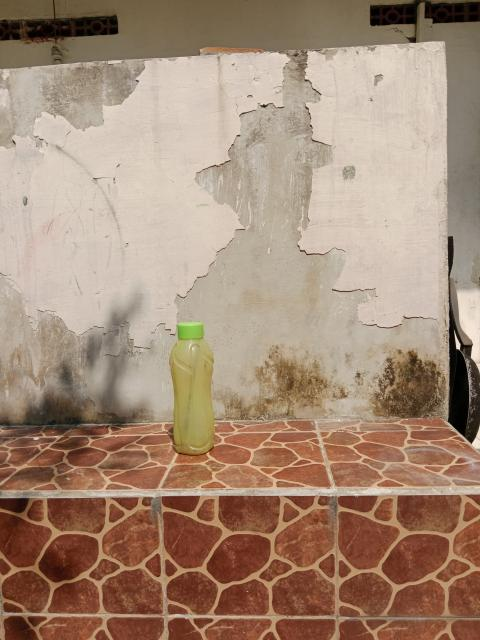botol: (160, 315, 223, 463)
